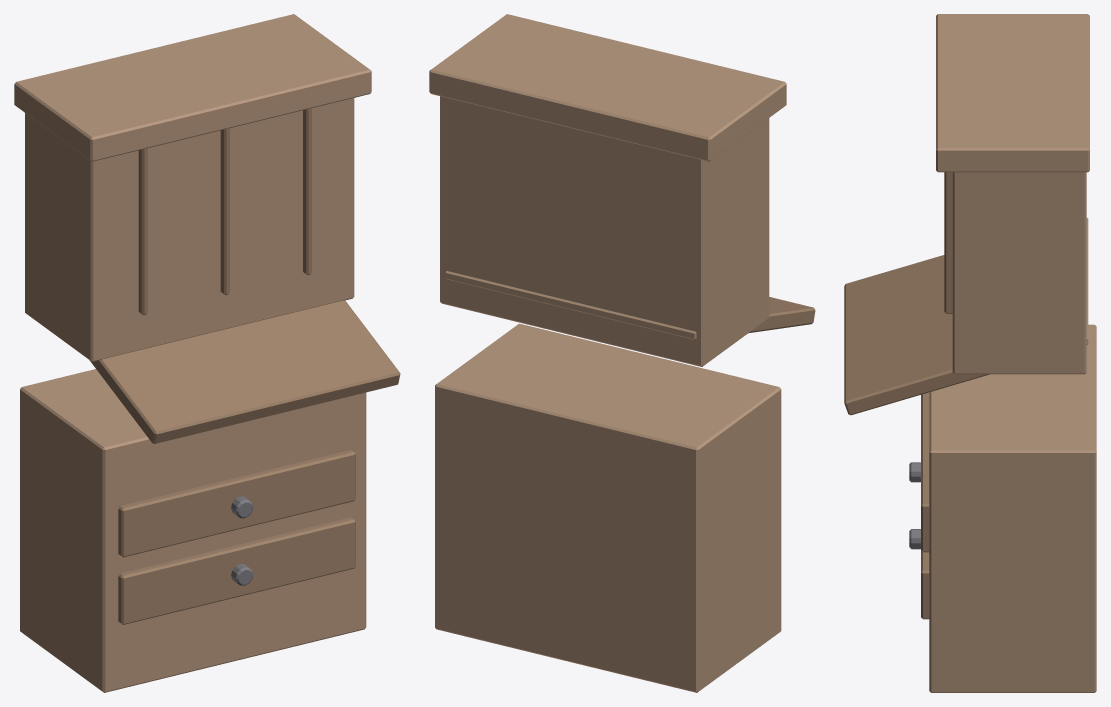
Rendered from SM_Secretary_Desk.fbx.
The picture shows the model from 3 angles, left to right: view 1: azimuth 30°, elevation 25°; view 2: azimuth 150°, elevation 25°; view 3: azimuth 270°, elevation 25°; orthographic projection.
Visible parts, largest first — view 1: Secretary_Desk; view 2: Secretary_Desk; view 3: Secretary_Desk.
Boxes of the visible parts, x1,y1,x2,y2 form: Secretary_Desk: (14, 14, 400, 692); Secretary_Desk: (429, 14, 815, 692); Secretary_Desk: (844, 14, 1096, 692).
Bounding box in the file's own units: 96 × 181 × 75.36.
